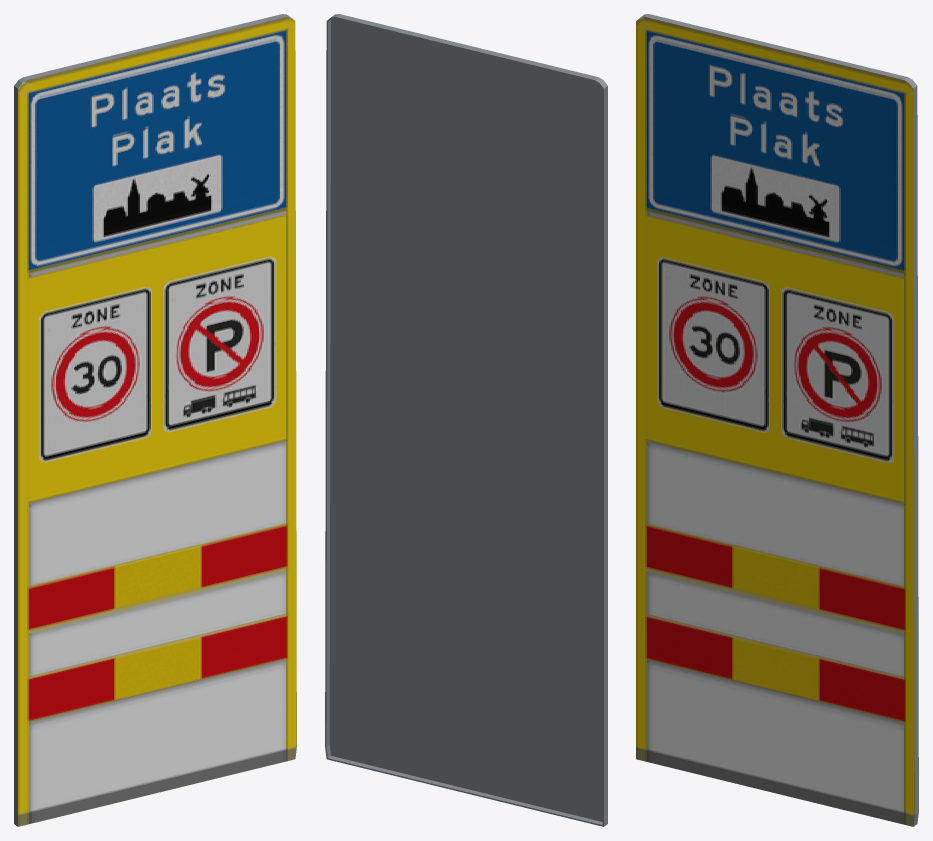
3 views of the same model, side by side, from view 1: azimuth 30°, elevation 25°; view 2: azimuth 150°, elevation 25°; view 3: azimuth 330°, elevation 25° (orthographic).
Visible parts, largest first — view 1: cat_fe9fbadf522c7ce4; view 2: cat_fe9fbadf522c7ce4; view 3: cat_fe9fbadf522c7ce4.
Boxes of the visible parts, x1,y1,x2,y2 form: cat_fe9fbadf522c7ce4: [14, 14, 296, 826]; cat_fe9fbadf522c7ce4: [325, 14, 607, 826]; cat_fe9fbadf522c7ce4: [636, 14, 918, 826].
Bounding box in the file's own units: 0.6 × 0.015 × 1.53.
Materials: 2 (1 with a texture image).
